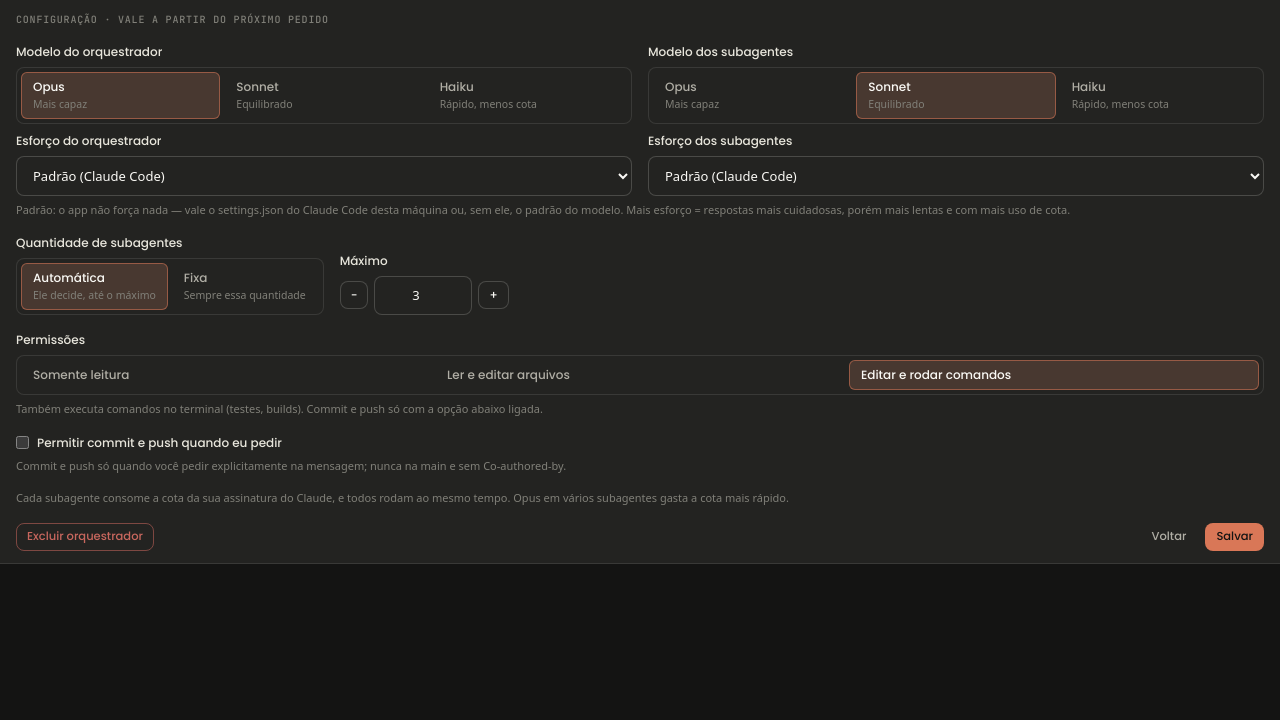
Test: PainelDeConfiguracao › se o servidor recusar, mostra o erro e o painel continua aberto
Click the checkbox labelled "Permitir commit e push quando eu pedir". click: click(22, 442)
box: [16, 436, 29, 449]
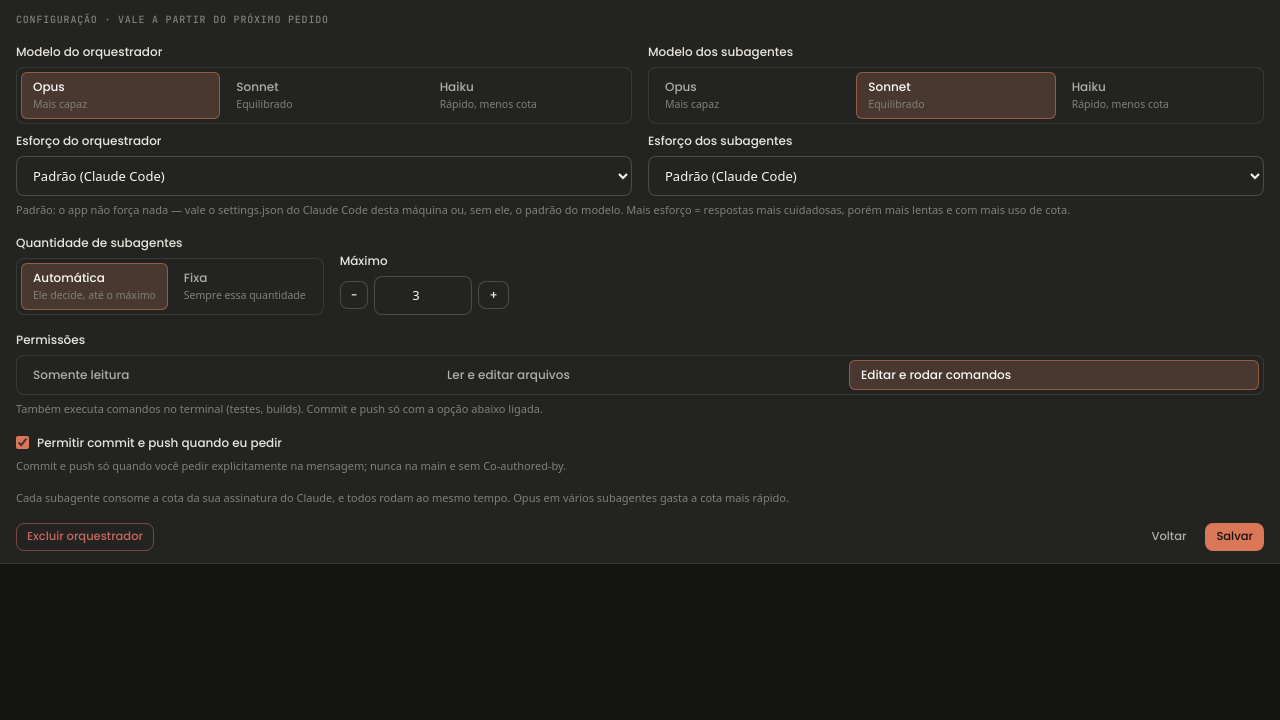
Click the button "Salvar". click: click(1235, 536)
box: [1205, 522, 1264, 550]
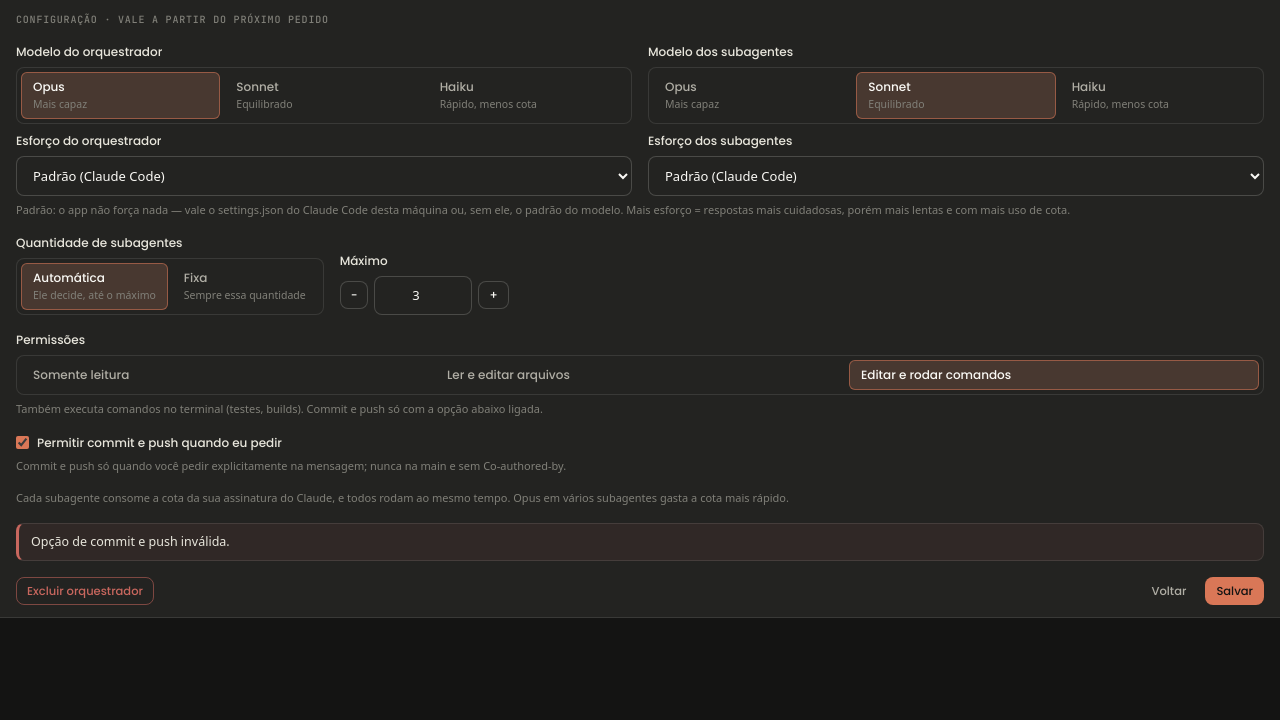
Expected: the checkbox labelled "Permitir commit e push quando eu pedir" is checked, [16, 436, 29, 449]
Expected: the text "Opção de commit e push inválida." is shown, [16, 522, 1264, 561]
